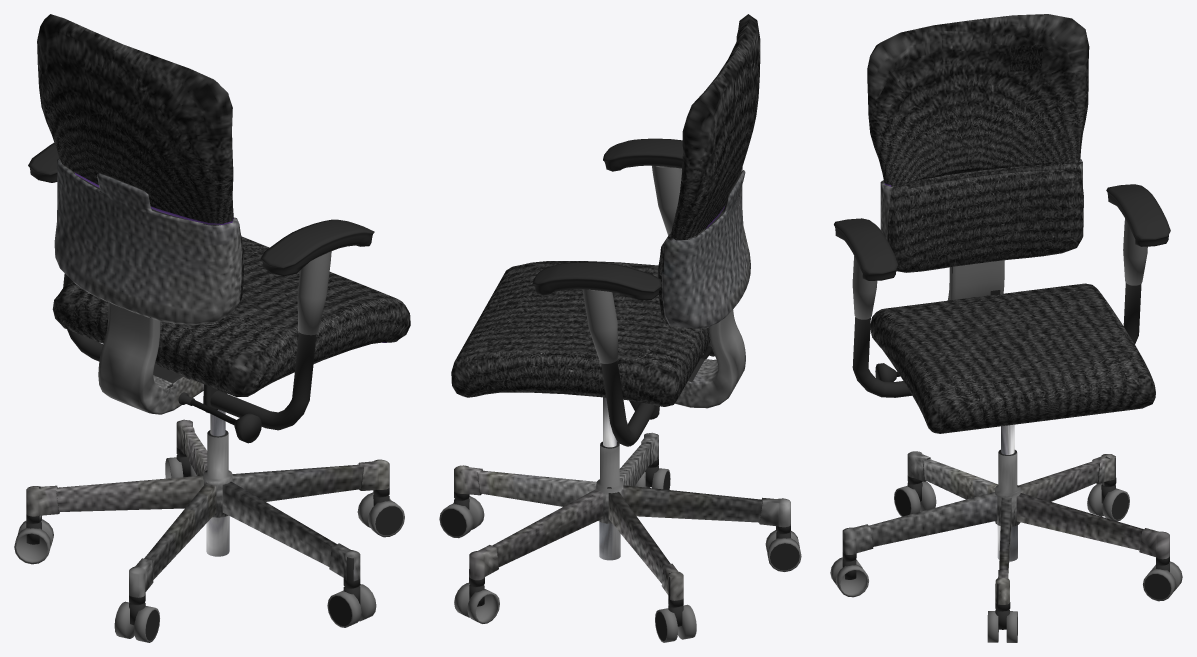
Rendered from office_chair.obj.
3 views of the same model, side by side, from view 1: azimuth 30°, elevation 25°; view 2: azimuth 150°, elevation 25°; view 3: azimuth 270°, elevation 25° (orthographic). The views are drawn at different scales.
Visible parts, largest first — view 1: sillaOfi_ruedas_Cube.009; view 2: sillaOfi_ruedas_Cube.009; view 3: sillaOfi_ruedas_Cube.009.
Boxes of the visible parts, x1,y1,x2,y2 form: sillaOfi_ruedas_Cube.009: (14,14,410,642); sillaOfi_ruedas_Cube.009: (439,14,801,642); sillaOfi_ruedas_Cube.009: (830,14,1182,642).
Bounding box in the file's own units: 1.24 × 2.03 × 1.29.
Materials: 11 (8 with a texture image).
